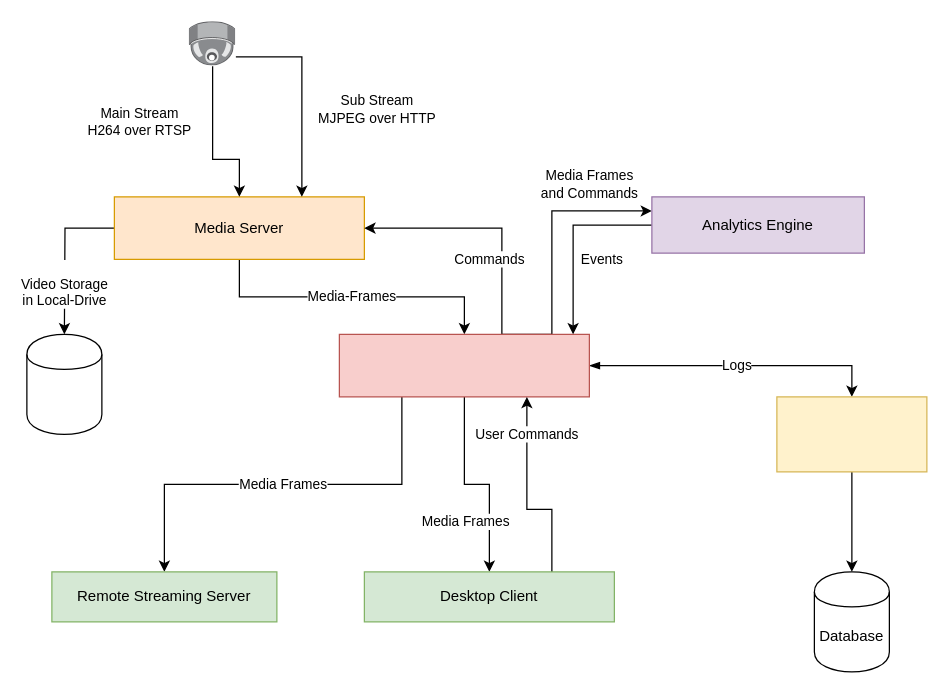
The diagram is 950 pixels wide and 694 high, and some of its shapes have lost their labels. Each missing label, with the box of its shape:
Database Manager: (776, 396, 927, 472)
IP Camera 1 .... N: (189, 21, 235, 66)
Session Manager: (338, 333, 589, 397)
